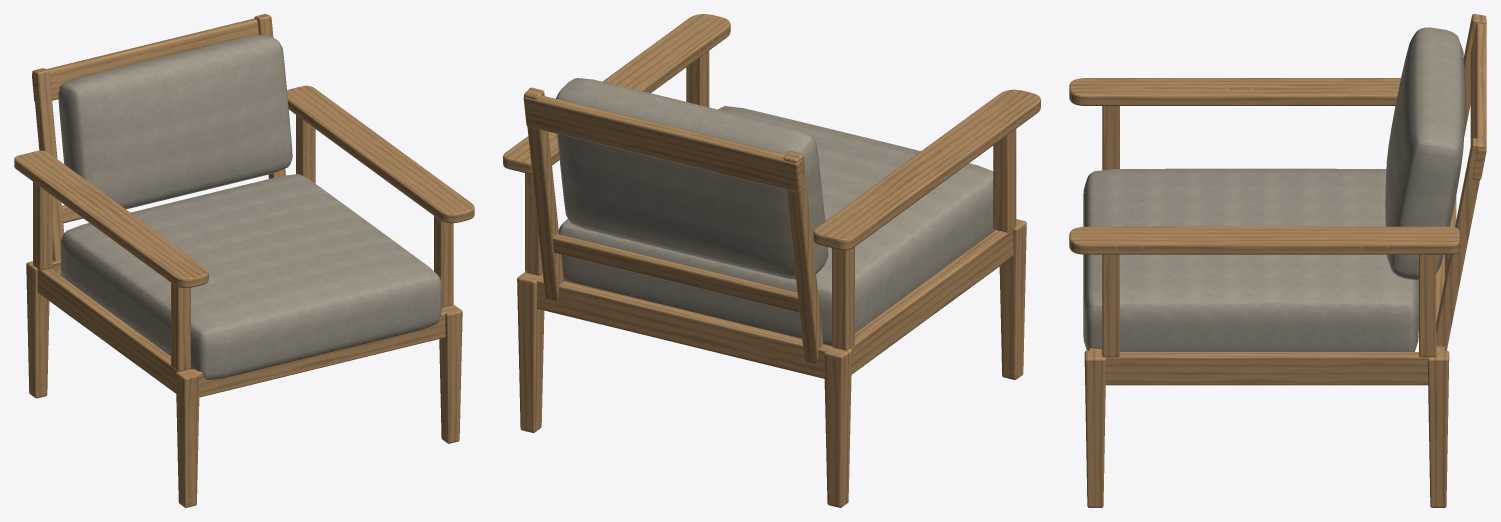
File: armchair.glb
3 renders of one model, left to right at view 1: azimuth 30°, elevation 25°; view 2: azimuth 150°, elevation 25°; view 3: azimuth 270°, elevation 25°, orthographic. The views are drawn at different scales.
Parts seen in each view (by area): view 1: seat_fabric_oat_0, back_fabric_oat_0, frame_wood_oak_6, frame_wood_oak_9, frame_wood_oak_2, frame_wood_oak_12, frame_wood_oak_0, leg_fl_wood_oak_0, leg_fr_wood_oak_0, leg_bl_wood_oak_0, frame_wood_oak_10, frame_wood_oak_4 (+3 smaller); view 2: back_fabric_oat_0, seat_fabric_oat_0, frame_wood_oak_6, frame_wood_oak_12, frame_wood_oak_1, frame_wood_oak_2, frame_wood_oak_9, frame_wood_oak_13, leg_bl_wood_oak_0, frame_wood_oak_10, leg_br_wood_oak_0, frame_wood_oak_11 (+5 smaller); view 3: seat_fabric_oat_0, back_fabric_oat_0, frame_wood_oak_9, frame_wood_oak_3, frame_wood_oak_6, leg_fr_wood_oak_0, leg_br_wood_oak_0, frame_wood_oak_11, frame_wood_oak_12, frame_wood_oak_7, frame_wood_oak_8, frame_wood_oak_4 (+1 smaller).
Boxes of the visible parts, box(x1,y1,x2,y2) form: seat_fabric_oat_0: box(61, 174, 441, 379); back_fabric_oat_0: box(58, 34, 292, 209); frame_wood_oak_6: box(14, 150, 208, 287); frame_wood_oak_9: box(287, 85, 474, 223); frame_wood_oak_2: box(37, 268, 189, 393); frame_wood_oak_12: box(32, 18, 258, 102); frame_wood_oak_0: box(190, 309, 445, 397); leg_fl_wood_oak_0: box(176, 368, 199, 507); leg_fr_wood_oak_0: box(439, 304, 462, 443); leg_bl_wood_oak_0: box(26, 261, 49, 398); frame_wood_oak_10: box(32, 68, 64, 275); frame_wood_oak_4: box(171, 283, 190, 371); back_fabric_oat_0: box(556, 78, 828, 279); seat_fabric_oat_0: box(558, 106, 995, 345); frame_wood_oak_6: box(813, 89, 1040, 250); frame_wood_oak_12: box(523, 95, 804, 192); frame_wood_oak_1: box(533, 274, 836, 378); frame_wood_oak_2: box(837, 229, 1013, 374); frame_wood_oak_9: box(503, 14, 730, 174); frame_wood_oak_13: box(552, 234, 799, 312); leg_bl_wood_oak_0: box(824, 347, 851, 507); frame_wood_oak_10: box(783, 151, 823, 363); leg_br_wood_oak_0: box(517, 272, 544, 432); frame_wood_oak_11: box(524, 87, 563, 300); seat_fabric_oat_0: box(1083, 168, 1418, 351); back_fabric_oat_0: box(1385, 27, 1464, 280); frame_wood_oak_9: box(1069, 226, 1459, 254); frame_wood_oak_3: box(1097, 352, 1428, 385); frame_wood_oak_6: box(1069, 78, 1400, 105); leg_fr_wood_oak_0: box(1084, 350, 1106, 507); leg_br_wood_oak_0: box(1427, 350, 1449, 507); frame_wood_oak_11: box(1436, 138, 1486, 350); frame_wood_oak_12: box(1470, 19, 1486, 179); frame_wood_oak_7: box(1102, 254, 1119, 357); frame_wood_oak_8: box(1419, 254, 1436, 357); frame_wood_oak_4: box(1102, 106, 1119, 170).
Size of what is drawn, in the model's own units: 0.8072 by 0.7947 by 0.8523.
3 materials, 3 textured.
